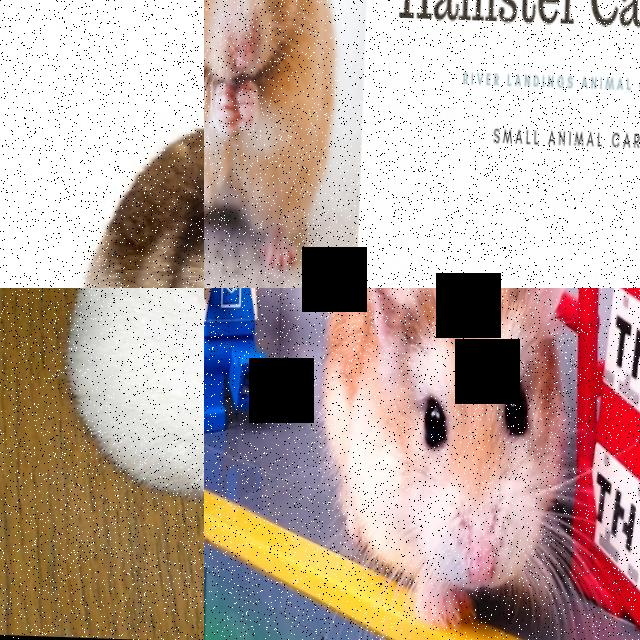hamster: (310, 288, 582, 639), (5, 65, 204, 288), (204, 0, 345, 272), (61, 288, 204, 518)
